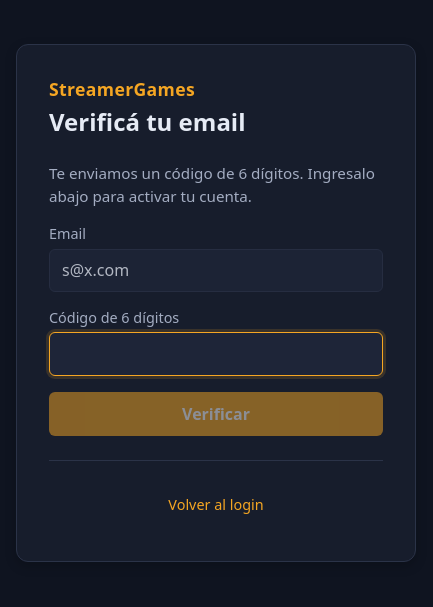
Test case: VerifyEmail page › on 400 invalid_code, shows the error and stays on the page
Type "000000" into the field labelled "Código de 6 dígitos" at (216, 354), box [49,332,383,376]
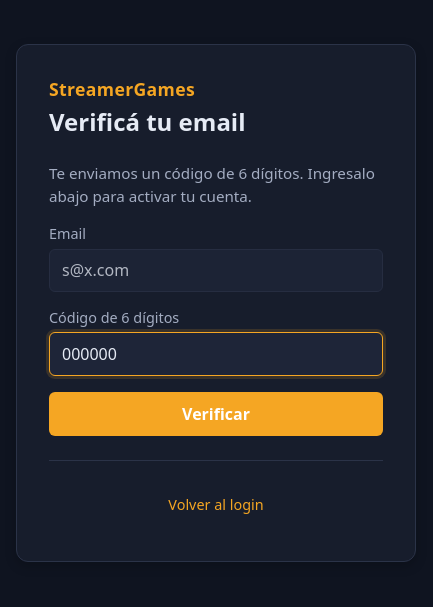
Click the button "Verificar" at (216, 414), box [49,392,383,436]
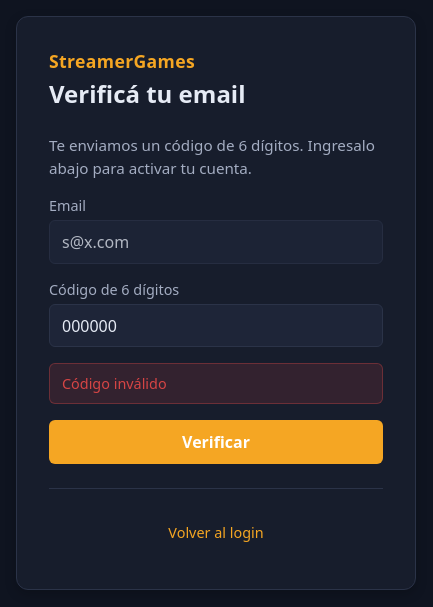
Expected: the heading "Verificá tu email" is shown, [49,77,246,110]
Expected: the message reads "Código inválido", [62,374,167,393]
